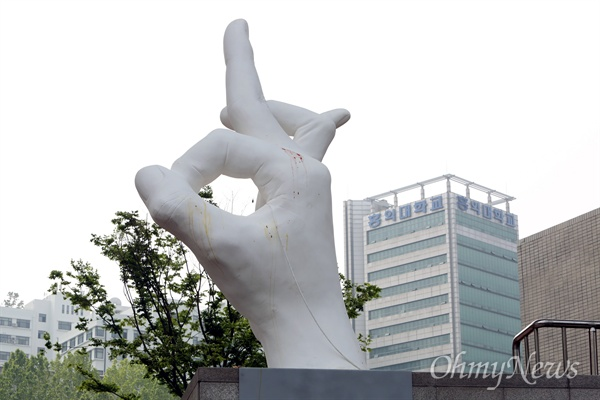ilbe: (130, 19, 355, 331)
